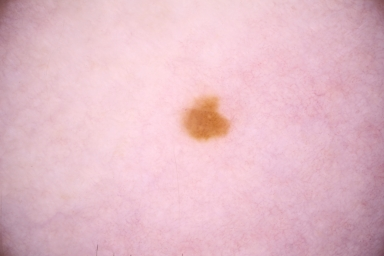nevus: (182, 96, 232, 142)
